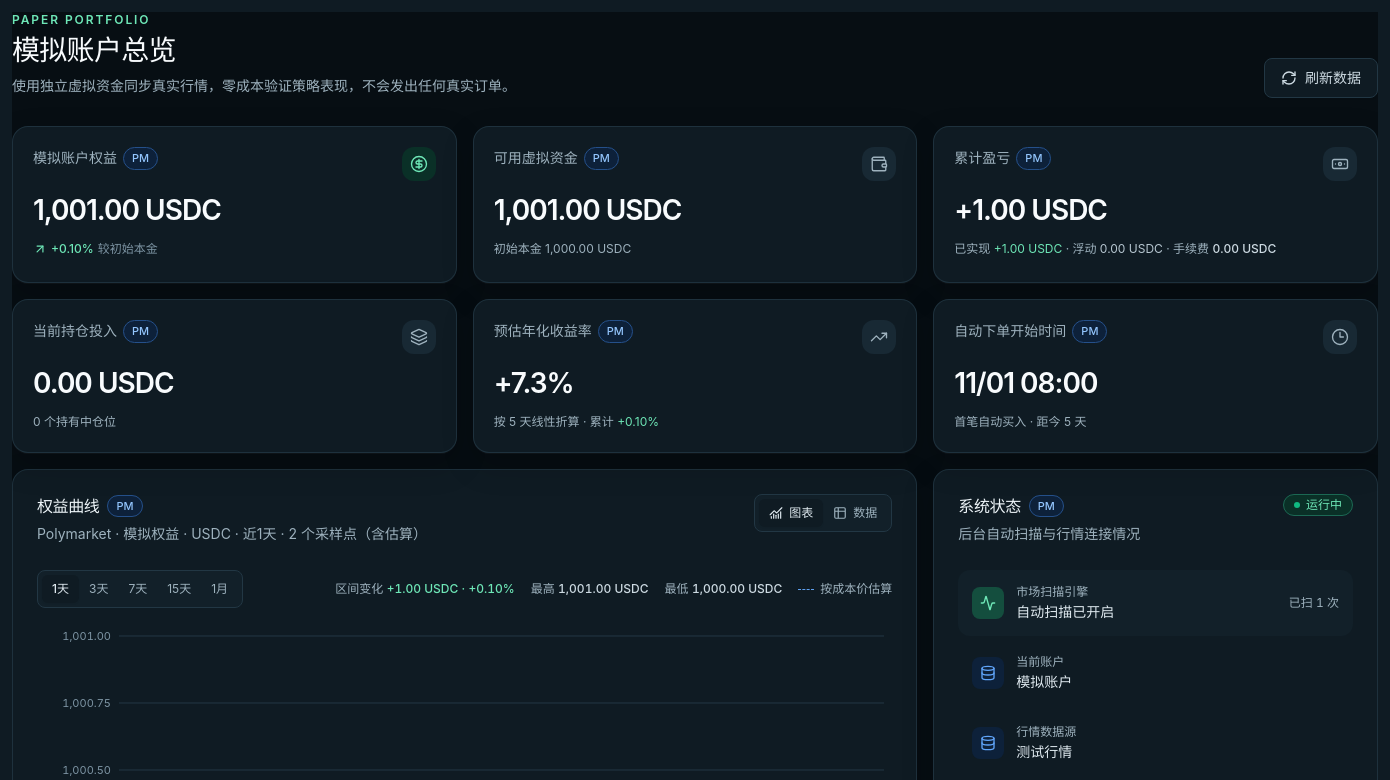
Test: equity range selector › marks reconstructed points as estimated instead of hiding the gap
The image size is (1390, 780).
Expected: the heading "权益曲线" is shown, x1=37 y1=494 x2=99 y2=518
Expected: the text "按成本价估算" is shown, x1=820 y1=581 x2=892 y2=596
Click the button "数据". click: (855, 513)
box: x1=823 y1=499 x2=887 y2=527
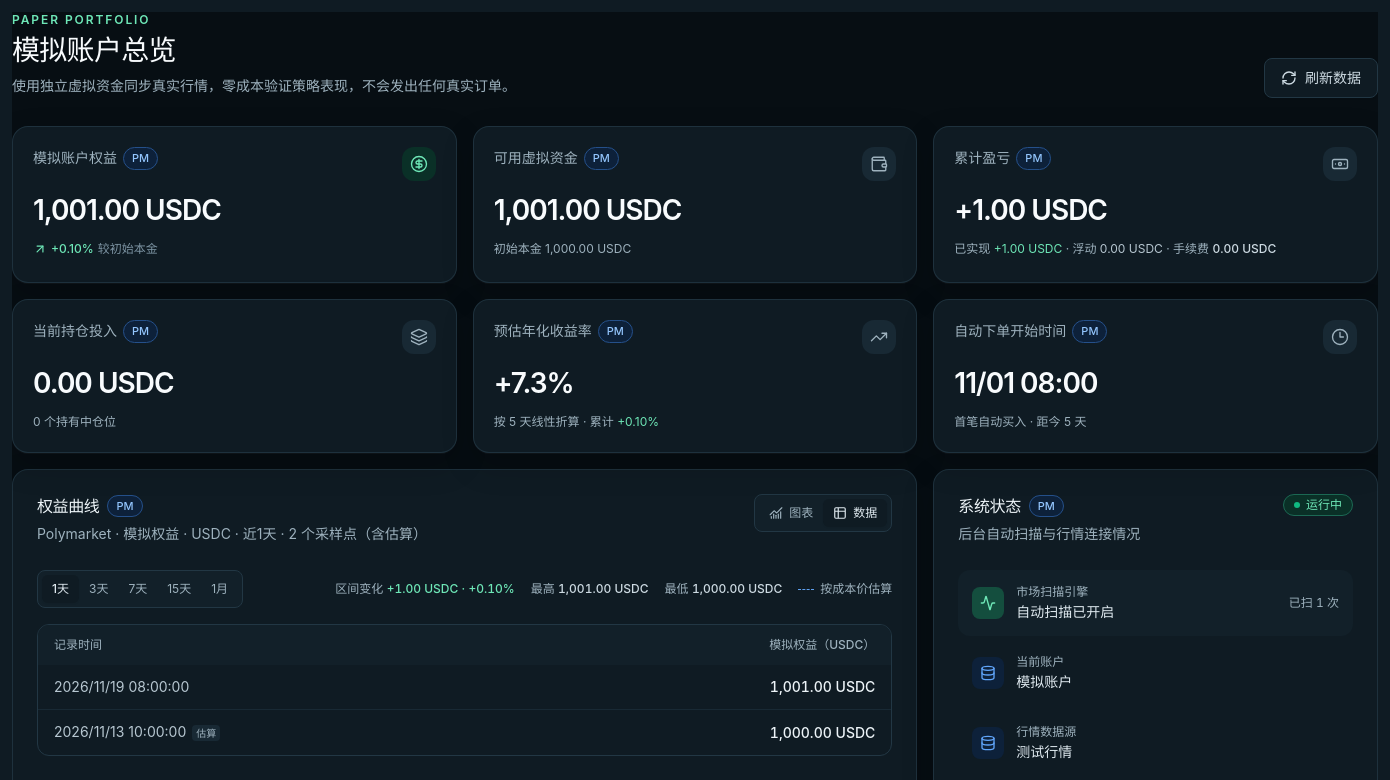
Expected: the text "估算" is shown, x1=192 y1=725 x2=220 y2=741
